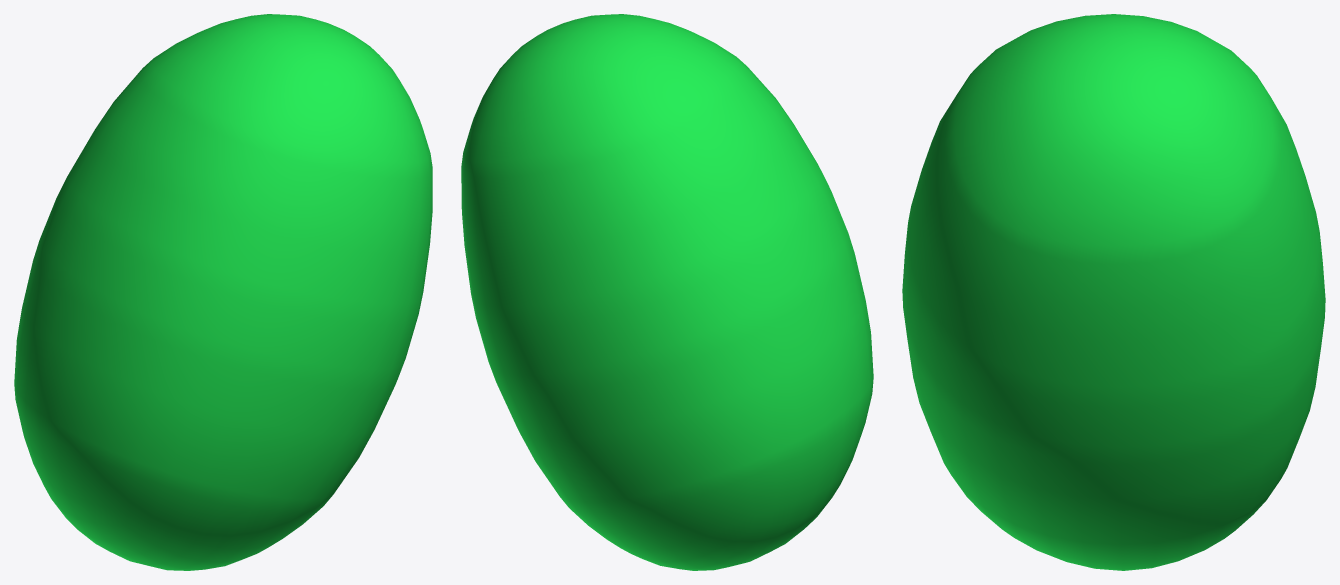
File: model_baloon_lv_1_3.fbx
The picture shows the model from 3 angles, left to right: view 1: azimuth 30°, elevation 25°; view 2: azimuth 150°, elevation 25°; view 3: azimuth 270°, elevation 25°; orthographic projection. The views are drawn at different scales.
Parts seen in each view (by area): view 1: lv_1_3; view 2: lv_1_3; view 3: lv_1_3.
Part boxes in pixels (x1,y1,x2,y2): lv_1_3: (14, 14, 432, 570); lv_1_3: (461, 14, 873, 570); lv_1_3: (902, 14, 1325, 570).
Bounding box in the file's own units: 37.92 × 50.57 × 33.85.
